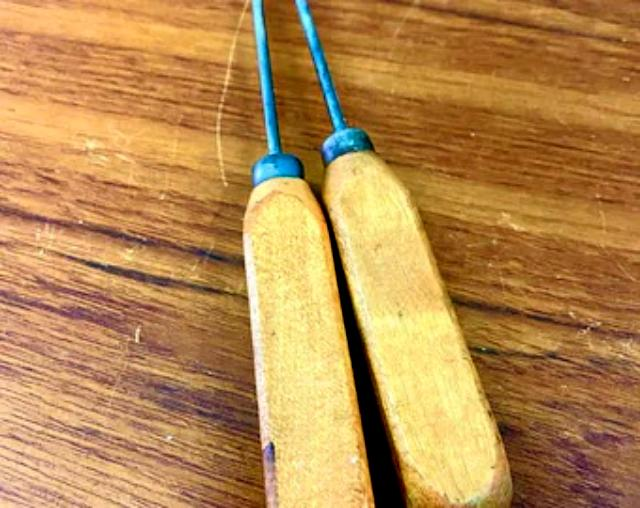ice pick: (295, 0, 517, 508), (243, 0, 377, 508)
